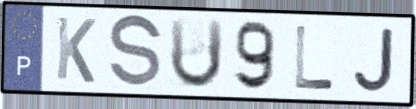9: (232, 20, 278, 93)
J: (351, 25, 398, 95)
K: (53, 14, 98, 86)
L: (292, 23, 337, 92)
S: (106, 12, 165, 92)
U: (167, 16, 226, 92)
